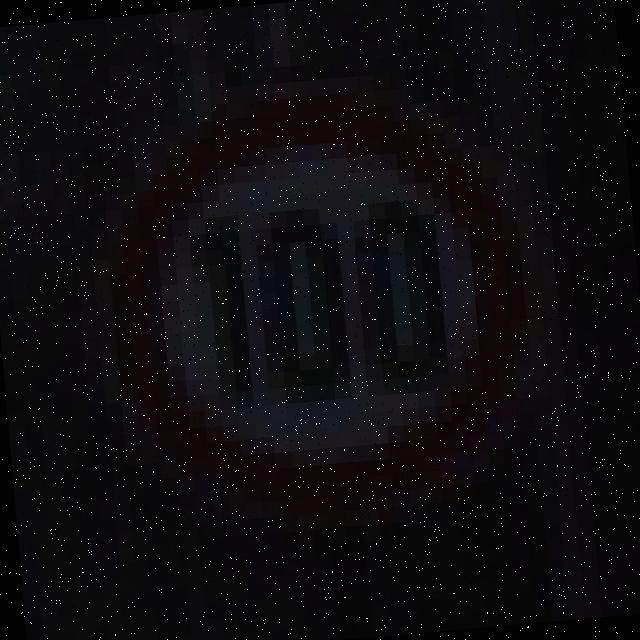Ograniczenie predkosci do 100: (94, 80, 550, 530)
